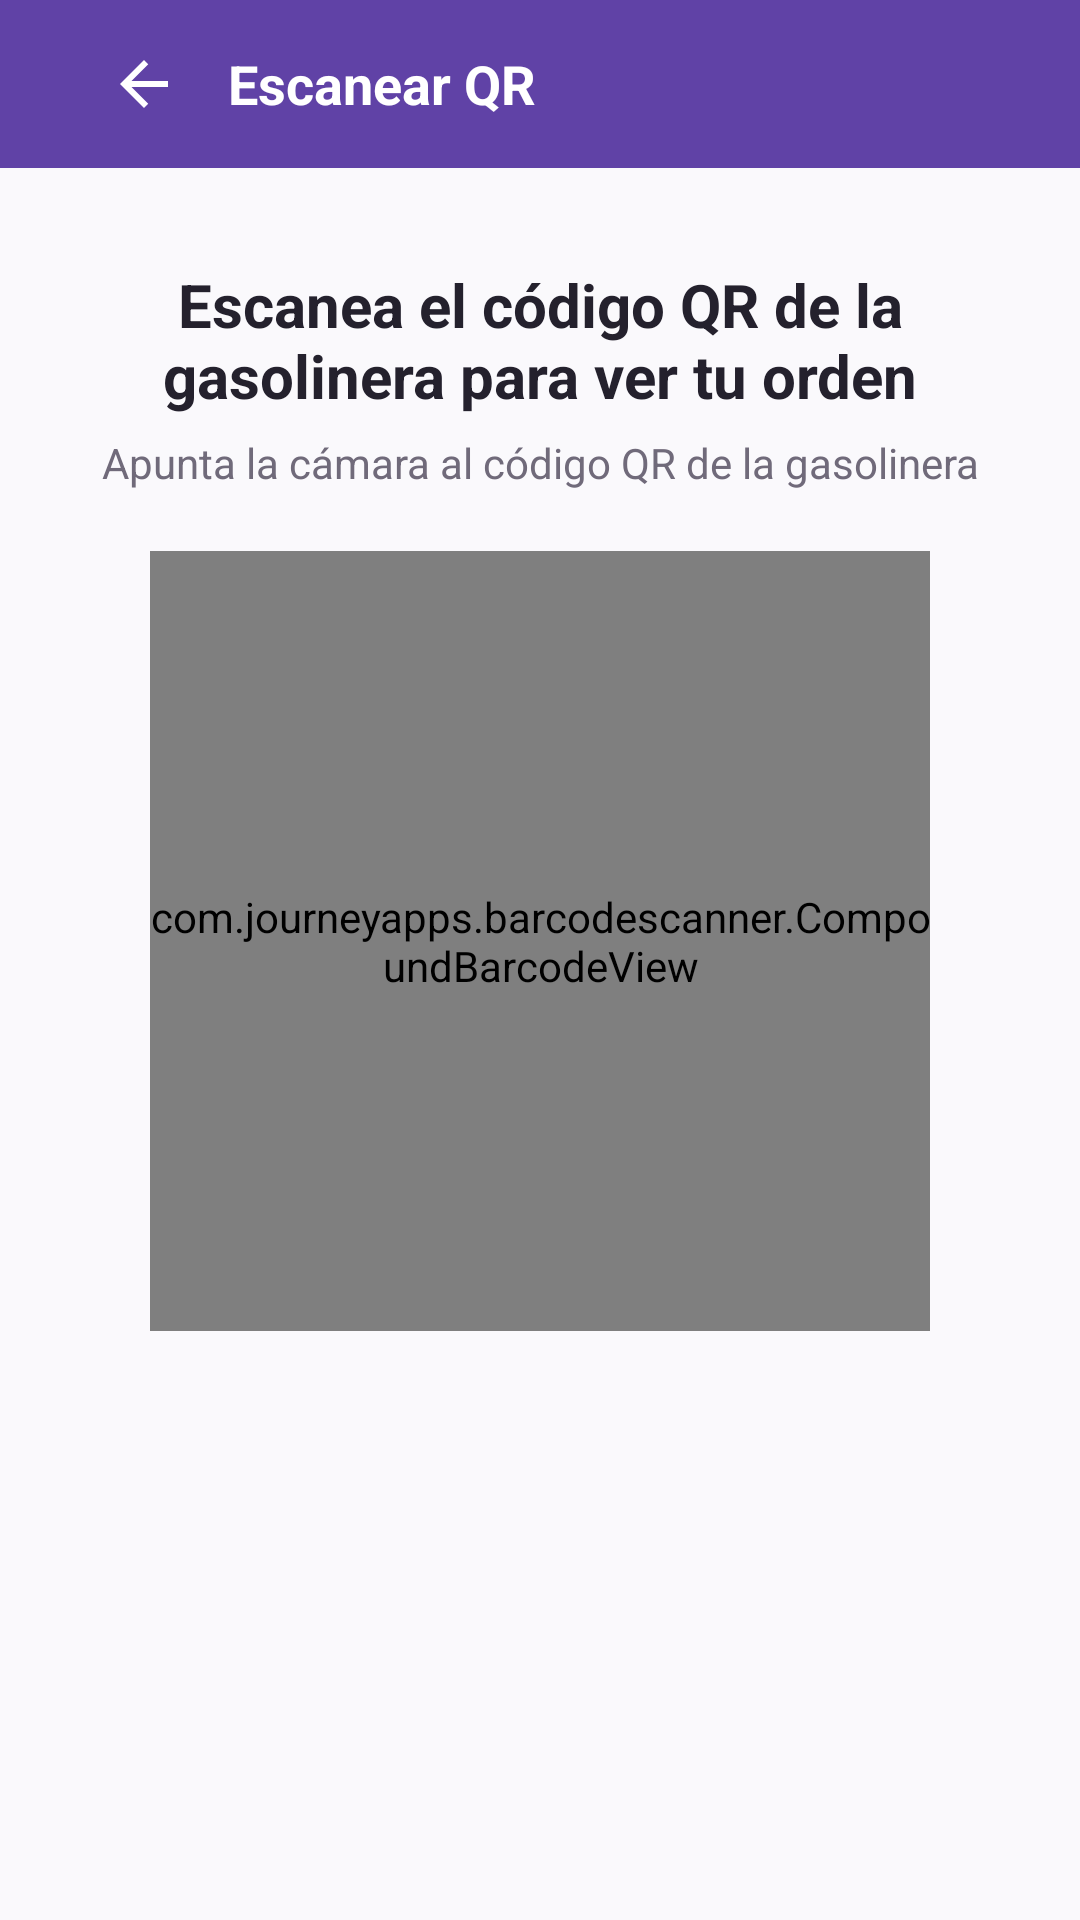

Named icons in this screenshot (1080 × 1920) and their bounding boxes, (x1, y1, x2, y2):
Volver: (120, 60, 168, 108)
